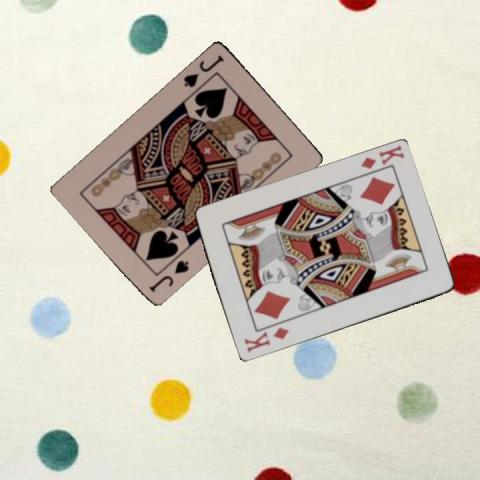Js: (181, 51, 226, 89), (146, 257, 191, 294)
Kd: (241, 324, 290, 354), (358, 142, 406, 171)
